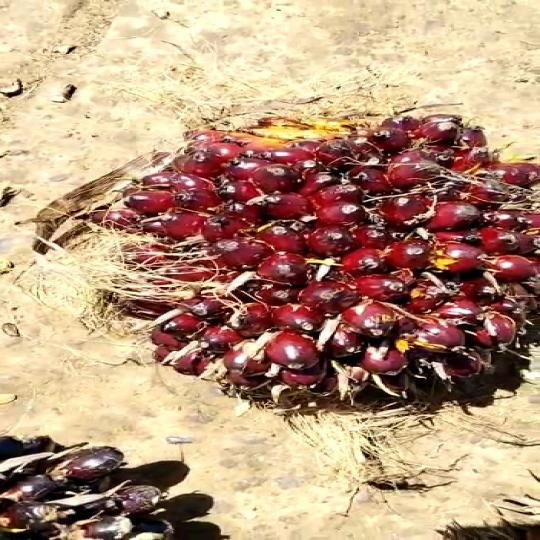kurang masak: (66, 93, 540, 426)
